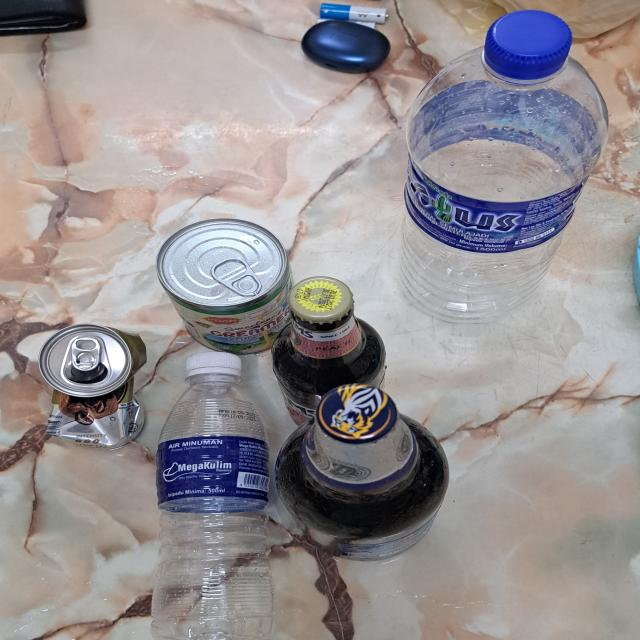battery: (320, 4, 388, 24)
can: (156, 217, 296, 355), (41, 324, 148, 450)
glass bottle: (275, 382, 450, 562), (270, 276, 386, 429)
plastic bottle: (398, 49, 609, 325), (154, 376, 276, 640)
plastic bottle cap: (484, 10, 570, 80), (184, 353, 242, 378)
pop tab: (212, 256, 262, 296), (72, 336, 102, 371)
